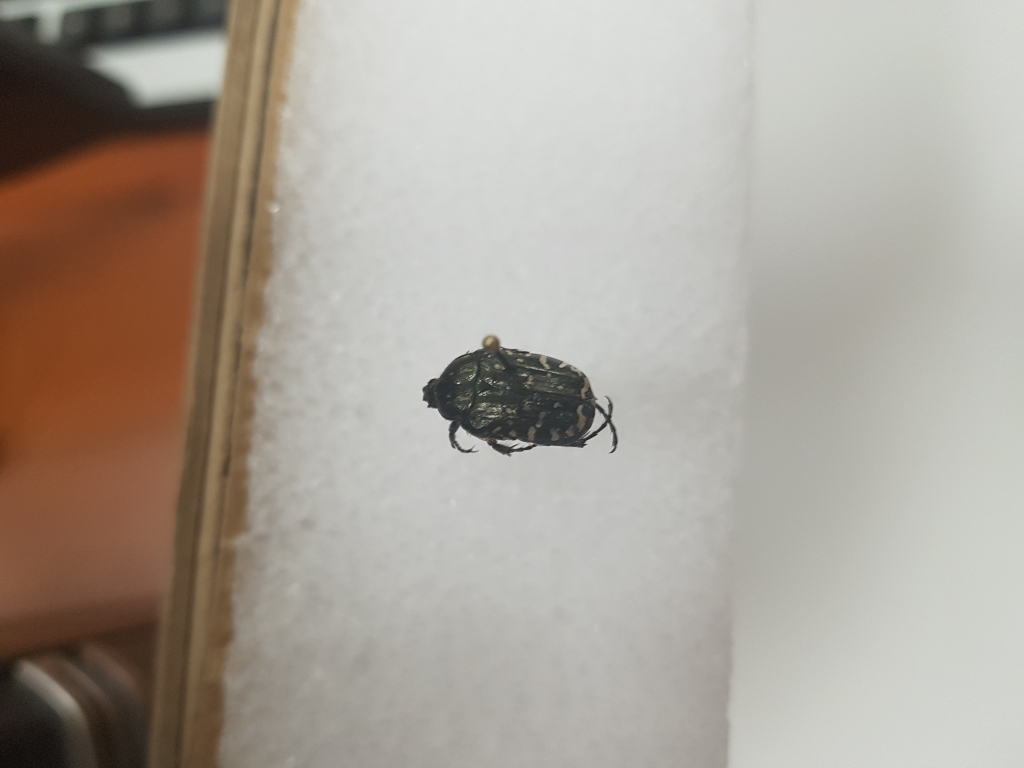Oxythyrea_funesta: (420, 338, 623, 467)
